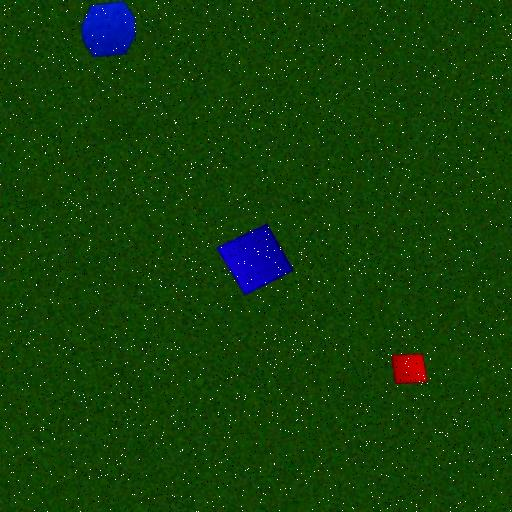BLUE_SQUARE: (216, 223, 294, 296)
RED_SQUARE: (390, 353, 428, 385)
